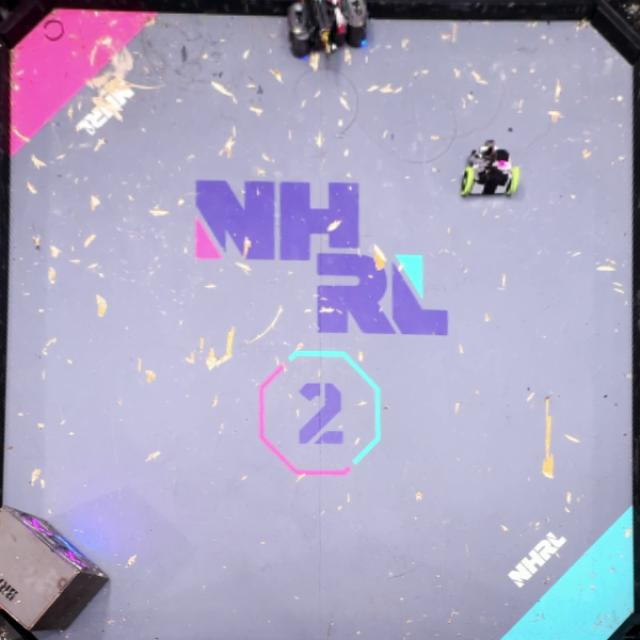housebot: (0, 503, 110, 633)
robot: (287, 0, 368, 59), (459, 140, 522, 198)
